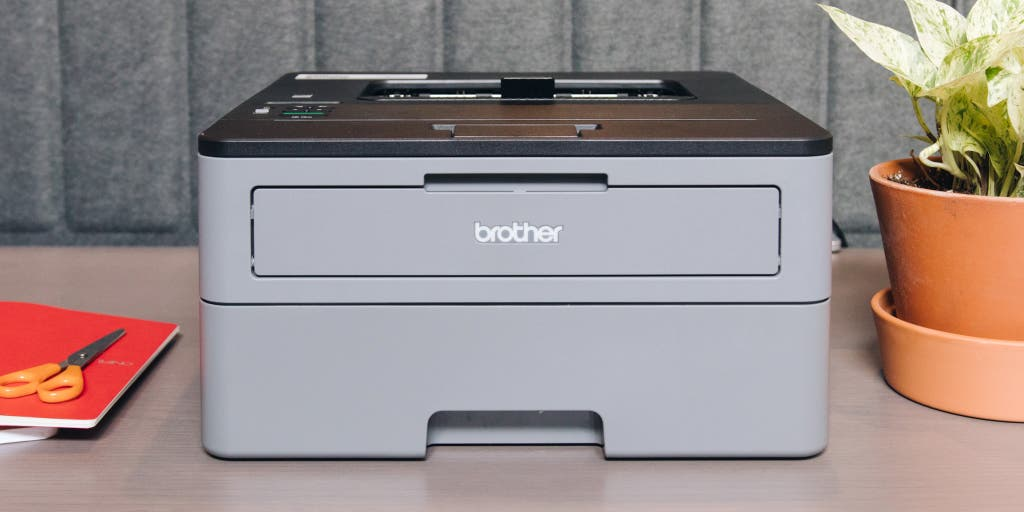printer: (183, 63, 833, 464)
